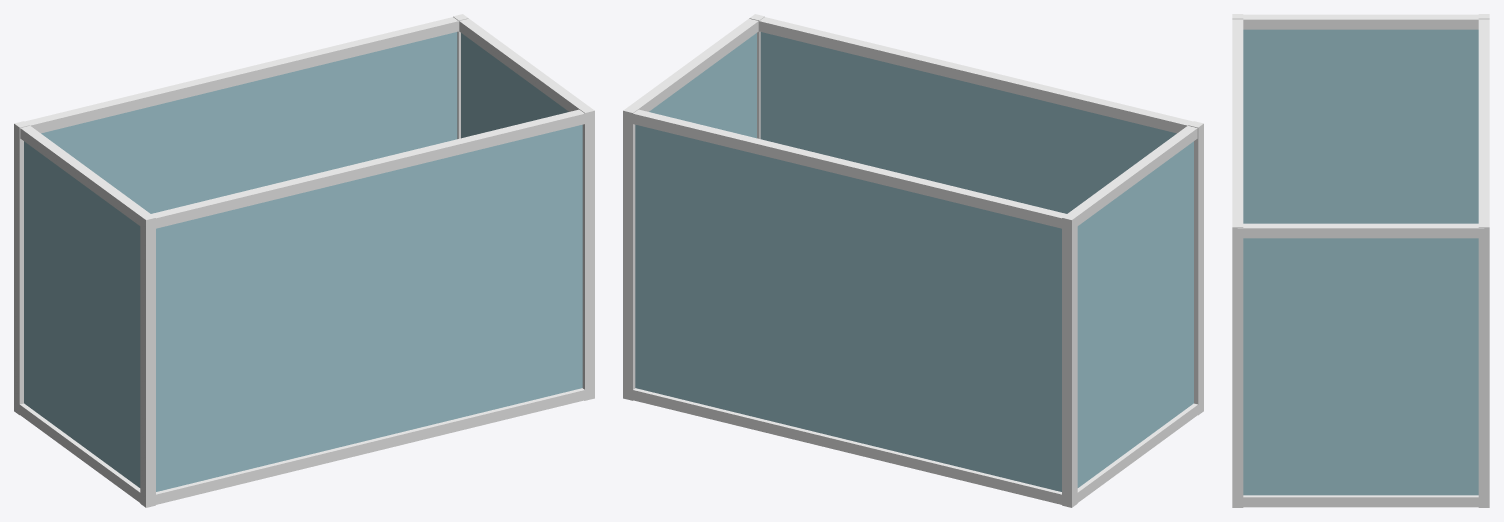
The model's file is tank.glb.
3 renders of one model, left to right at view 1: azimuth 30°, elevation 25°; view 2: azimuth 150°, elevation 25°; view 3: azimuth 270°, elevation 25°, orthographic. The views are drawn at different scales.
Visible parts, largest first — view 1: Glass-Back, Glass-Front, Glass-Left, Frame_Top_Back, Frame_Top_Front, Frame_Bottom_Back, Glass-Right, Frame_Post_BL, Frame_Post_BR, Frame_Post_FL, Frame_Top_Left, Frame_Top_Right (+1 smaller); view 2: Glass-Front, Glass-Back, Glass-Left, Frame_Top_Front, Frame_Top_Back, Frame_Bottom_Front, Glass-Right, Frame_Post_FL, Frame_Post_FR, Frame_Post_BL, Frame_Top_Left, Frame_Top_Right (+1 smaller); view 3: Glass-Right, Glass-Left, Frame_Top_Right, Frame_Top_Left, Frame_Post_BR, Frame_Post_FR, Frame_Bottom_Right, Frame_Top_Front, Frame_Top_Back.
Part boxes in pixels (<box>): Glass-Back: <box>156,124,582,491</box>; Glass-Front: <box>41,32,457,213</box>; Glass-Left: <box>24,141,140,487</box>; Frame_Top_Back: <box>151,109,587,228</box>; Frame_Top_Front: <box>25,17,459,133</box>; Frame_Bottom_Back: <box>153,388,587,505</box>; Glass-Right: <box>461,33,568,138</box>; Frame_Post_BL: <box>140,213,155,507</box>; Frame_Post_BR: <box>579,106,594,400</box>; Frame_Post_FL: <box>14,121,29,415</box>; Frame_Top_Left: <box>20,126,149,225</box>; Frame_Top_Right: <box>459,18,588,111</box>; Glass-Front: <box>635,124,1061,491</box>; Glass-Back: <box>760,32,1176,213</box>; Glass-Left: <box>1077,141,1193,487</box>; Frame_Top_Front: <box>633,109,1066,228</box>; Frame_Top_Back: <box>758,17,1192,133</box>; Frame_Bottom_Front: <box>630,388,1064,505</box>; Glass-Right: <box>649,33,756,138</box>; Frame_Post_FL: <box>1062,213,1077,507</box>; Frame_Post_FR: <box>623,106,638,400</box>; Frame_Post_BL: <box>1188,121,1203,415</box>; Frame_Top_Left: <box>1068,125,1197,225</box>; Frame_Top_Right: <box>629,18,758,111</box>; Glass-Right: <box>1243,238,1478,495</box>; Glass-Left: <box>1243,29,1478,223</box>; Frame_Top_Right: <box>1237,223,1484,238</box>; Frame_Top_Left: <box>1238,14,1478,29</box>; Frame_Post_BR: <box>1232,222,1243,507</box>; Frame_Post_FR: <box>1478,222,1489,507</box>; Frame_Bottom_Right: <box>1237,495,1484,507</box>; Frame_Top_Front: <box>1478,19,1489,222</box>; Frame_Top_Back: <box>1232,19,1243,222</box>.
Bounding box in the file's own units: 8.17 × 5 × 4.16.
